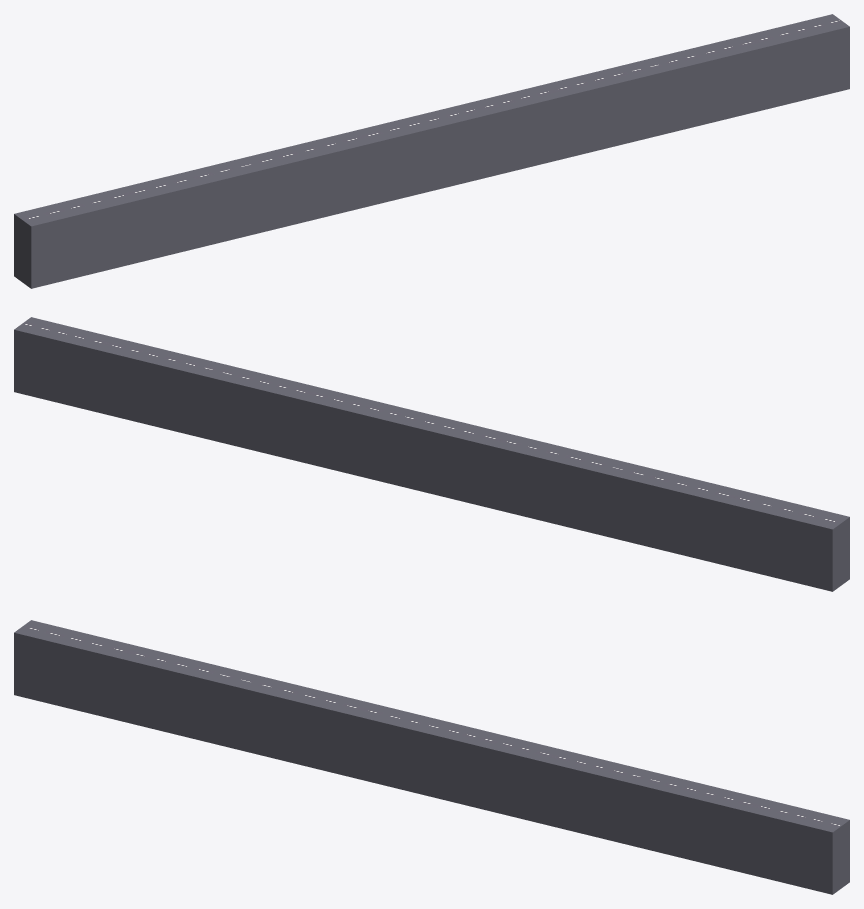
The model's file is road_06.fbx.
The picture shows the model from 3 angles, top to bottom: view 1: azimuth 30°, elevation 25°; view 2: azimuth 150°, elevation 25°; view 3: azimuth 330°, elevation 25°; orthographic projection.
Visible parts, largest first — view 1: road_6; view 2: road_6; view 3: road_6.
Boxes of the visible parts, left/top/right/bottom form: road_6: left=14, top=14, right=849, bottom=288; road_6: left=14, top=317, right=849, bottom=591; road_6: left=14, top=620, right=849, bottom=894.
Bounding box in the file's own units: 33.47 × 2.44 × 1.22.
Materials: 1 (1 with a texture image).
